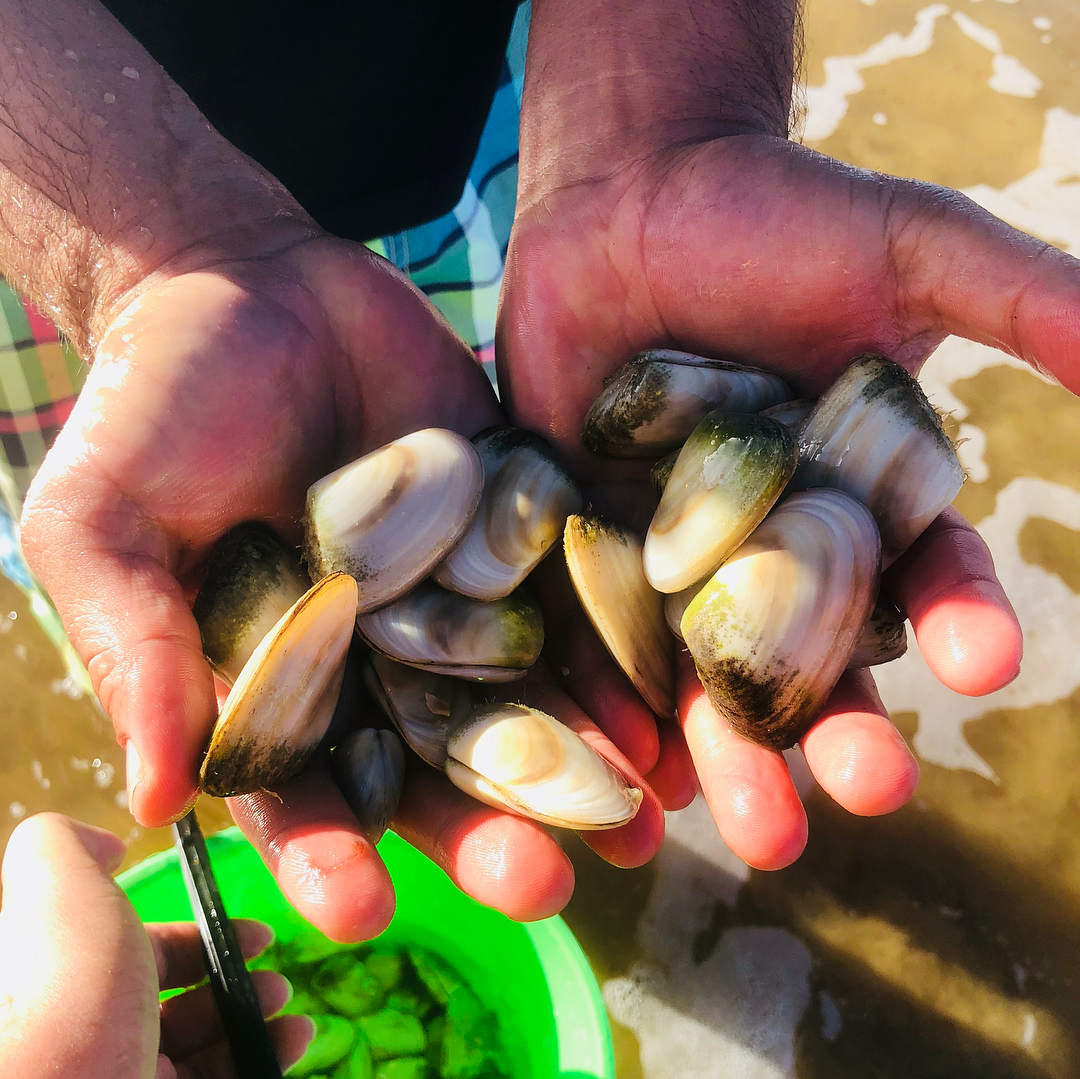tuatua: (671, 482, 886, 749), (193, 570, 357, 802), (287, 423, 483, 615), (805, 344, 969, 572), (642, 405, 794, 595), (438, 699, 650, 833), (555, 508, 684, 715), (449, 416, 577, 619), (580, 346, 797, 447), (356, 585, 545, 691)
